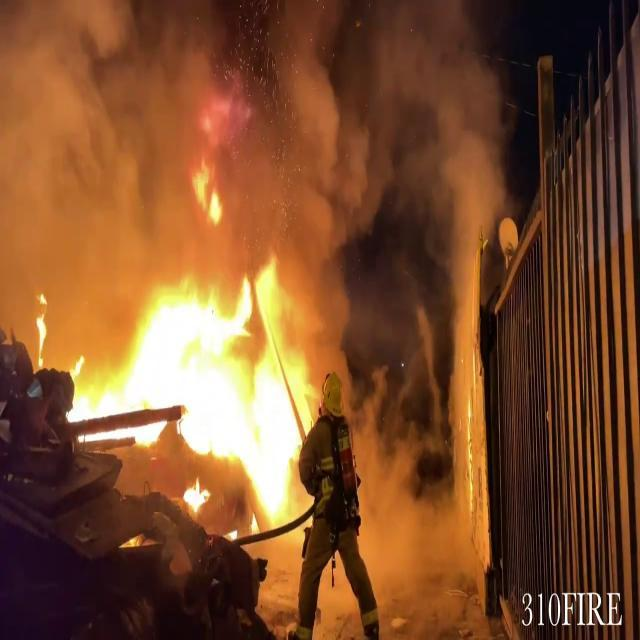Fire: (62, 244, 326, 530)
Smoke: (0, 0, 453, 311)
